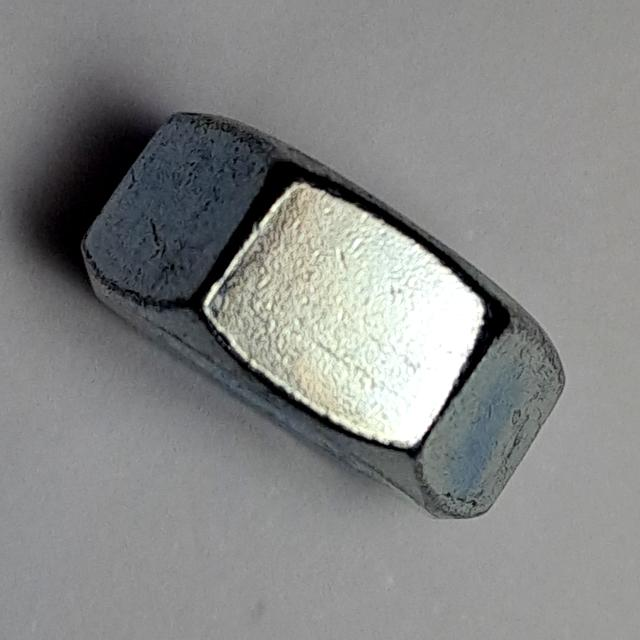Side_Excellent: (68, 102, 576, 537)
